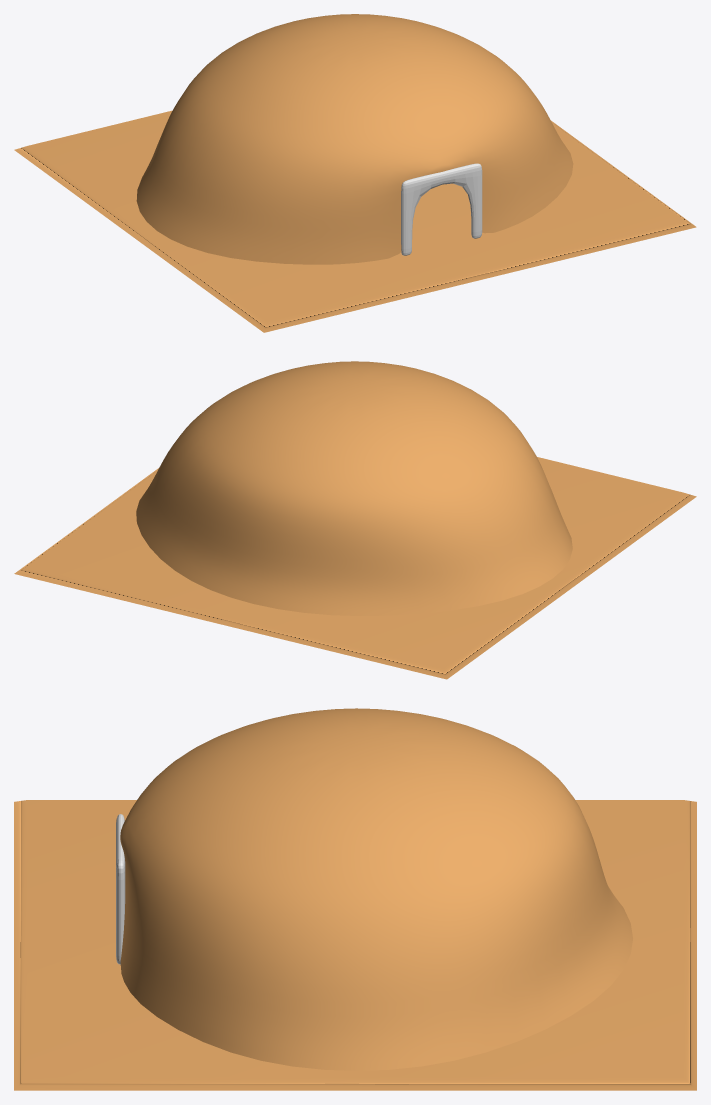
Rendered from burdei.glb.
The picture shows the model from 3 angles, top to bottom: view 1: azimuth 30°, elevation 25°; view 2: azimuth 150°, elevation 25°; view 3: azimuth 270°, elevation 25°; orthographic projection. The views are drawn at different scales.
Parts seen in each view (by area): view 1: Sphere, Cube, Cube.001; view 2: Sphere, Cube; view 3: Sphere, Cube, Cube.001.
Boxes of the visible parts, <box> form: Sphere: <box>136,14,573,264</box>; Cube: <box>14,110,696,332</box>; Cube.001: <box>401,163,482,255</box>; Sphere: <box>136,361,572,615</box>; Cube: <box>14,457,696,679</box>; Sphere: <box>120,708,632,1070</box>; Cube: <box>14,800,696,1090</box>; Cube.001: <box>116,814,125,964</box>.
Size of the model in its own units: 3.8 by 1.23 by 3.8.
